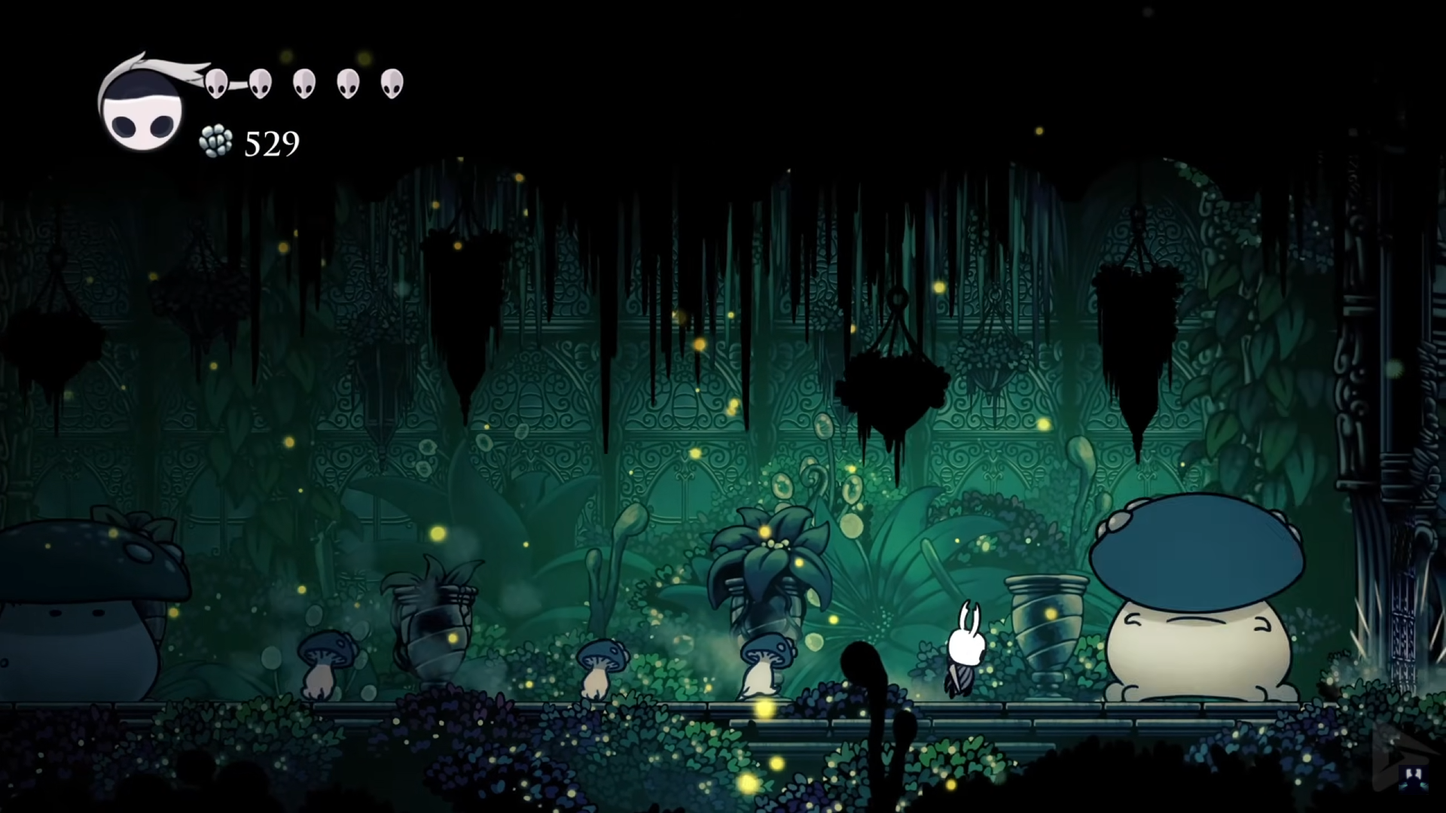HK: (938, 595, 993, 703)
